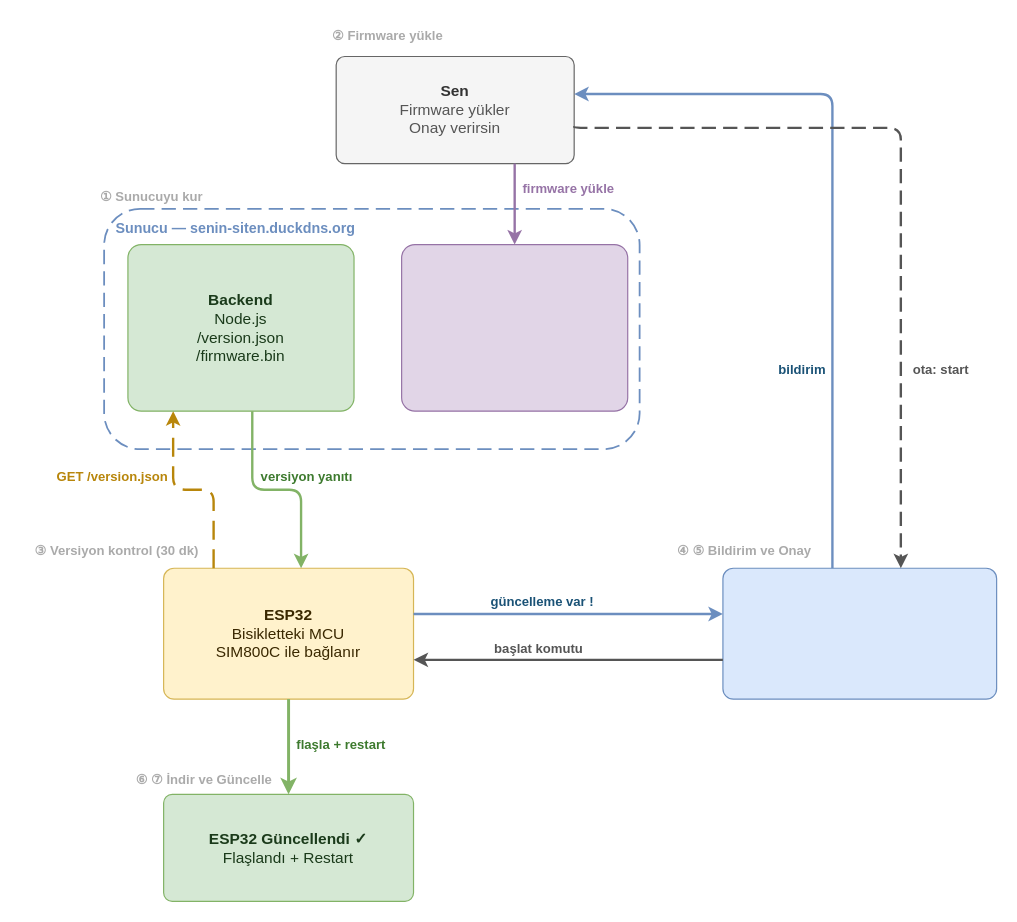
Some shapes in this 1017 by 922 pixel diagram are drawn without their labels. Each missing label, with the centre of its shape:
"Frontend Web Paneli Firmware yükle Versiyon takip" goes at (514,327).
"HiveMQ Broker MQTT mesaj köprüsü smartbike/001/ota smartbike/001/command" goes at (859,633).
